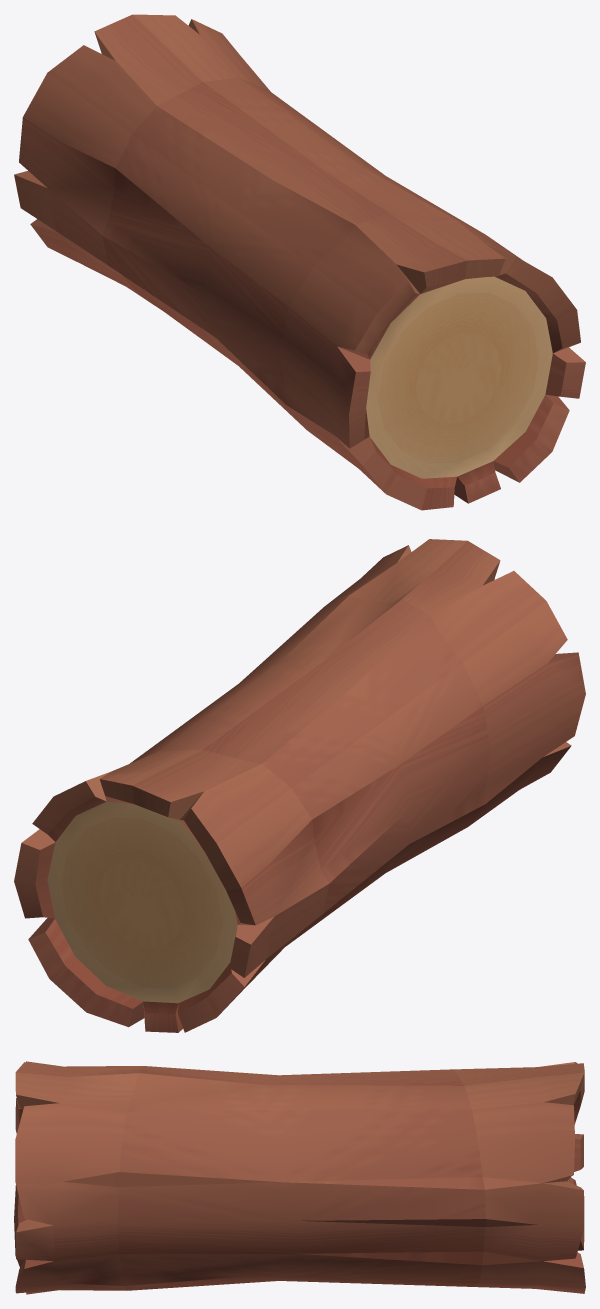
Rendered from Wood_Log_B.gltf.
3 renders of one model, top to bottom at view 1: azimuth 30°, elevation 25°; view 2: azimuth 150°, elevation 25°; view 3: azimuth 270°, elevation 25°, orthographic. The views are drawn at different scales.
Visible parts, largest first — view 1: Wood_Log_B; view 2: Wood_Log_B; view 3: Wood_Log_B.
Part boxes in pixels (left/top/right/bottom): Wood_Log_B: left=14, top=14, right=585, bottom=510; Wood_Log_B: left=14, top=539, right=585, bottom=1032; Wood_Log_B: left=14, top=1061, right=585, bottom=1294.
Bounding box in the file's own units: 0.549 × 0.5506 × 1.35.
Materials: 1 (1 with a texture image).
